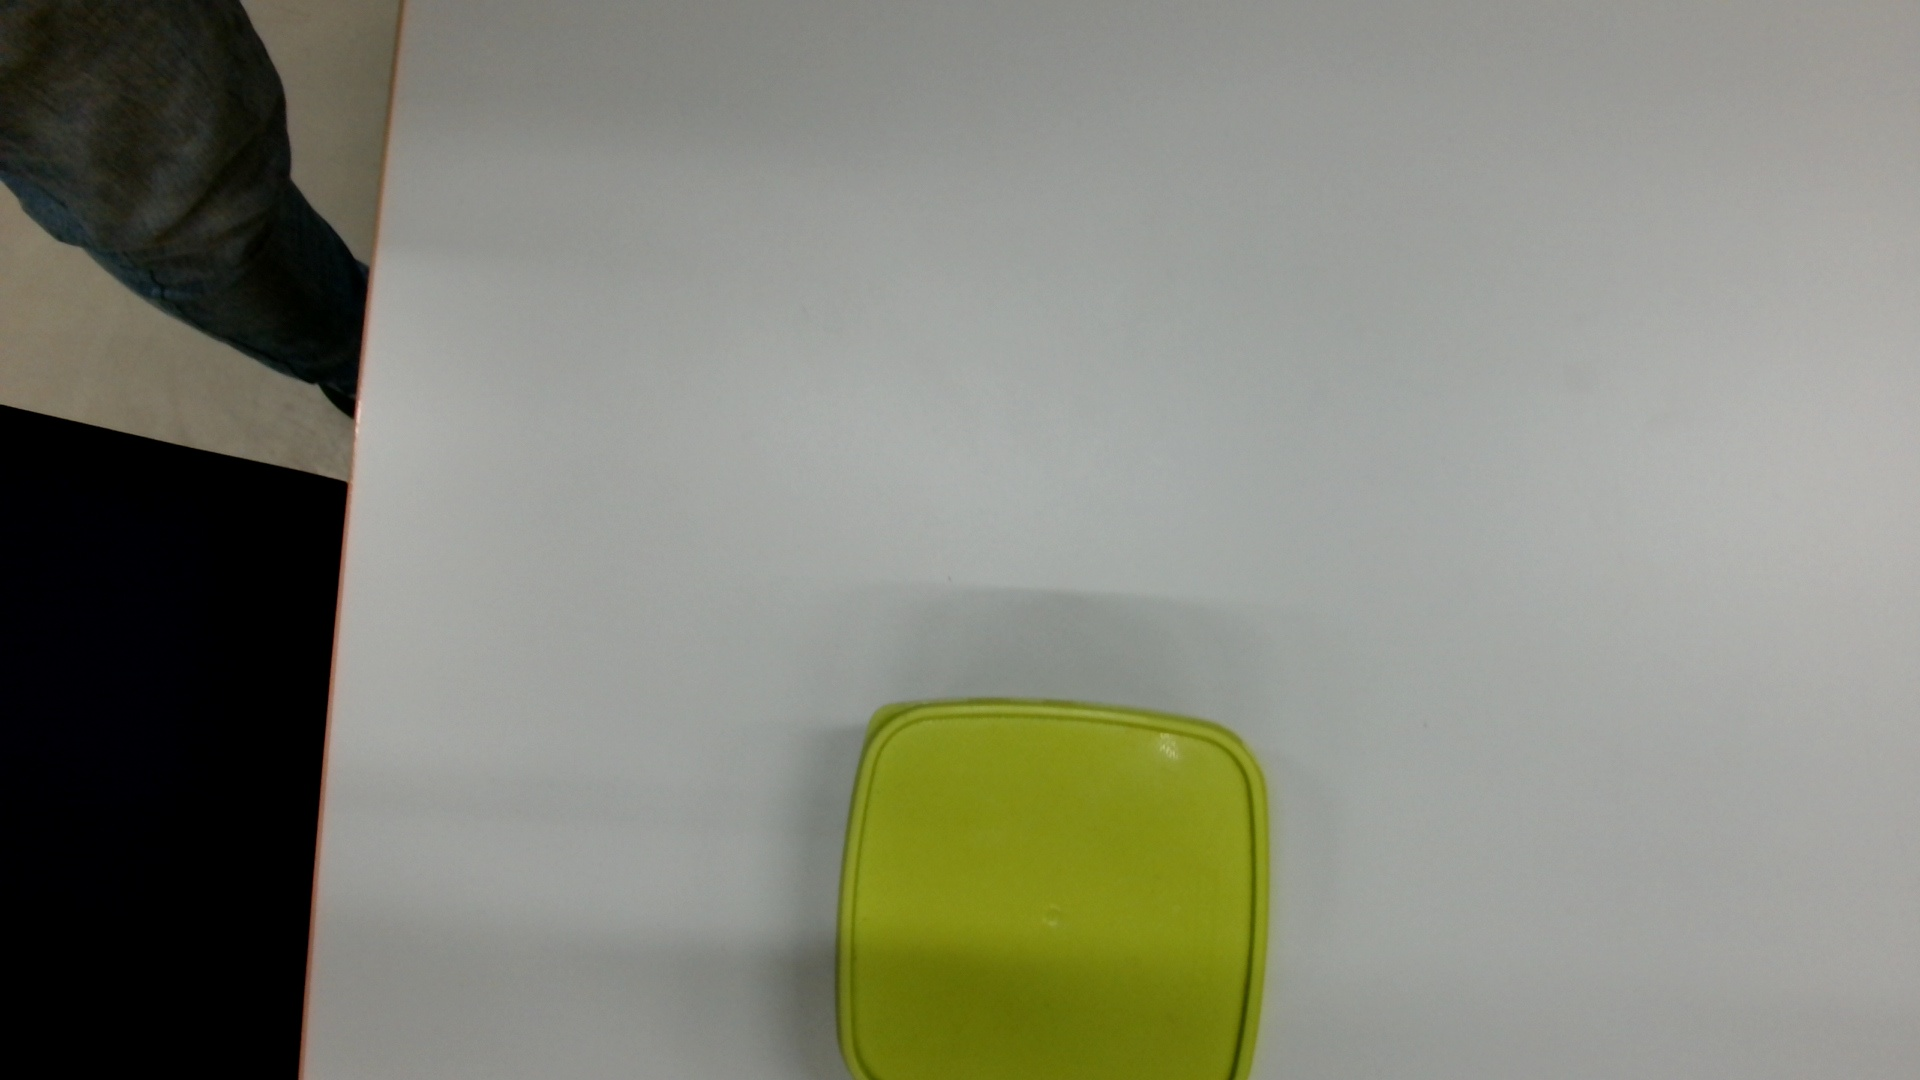Box: (822, 691, 1282, 1080)
